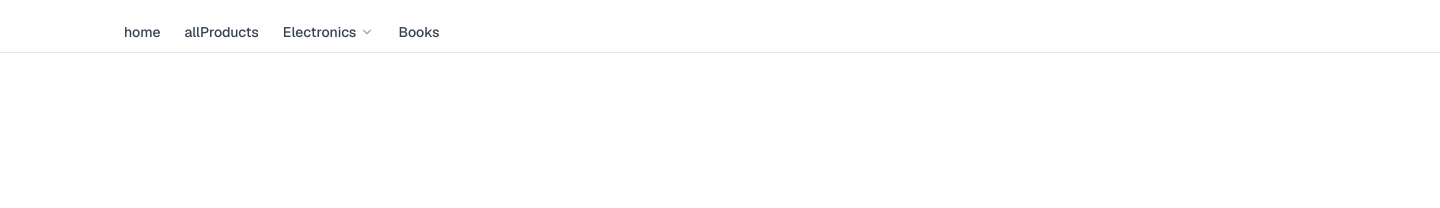
Scenario: CategoryNav › opens the sub-category menu panel when clicking a root category name
Expected: the link "Audio" is not shown
Click the button "Electronics". click: (329, 32)
box: [271, 12, 386, 52]
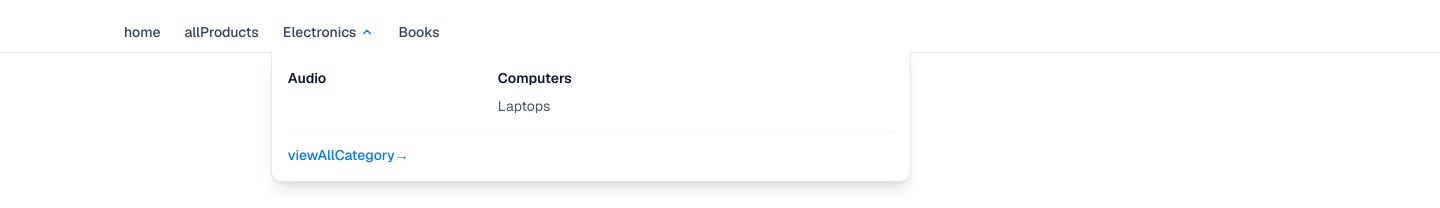
Result: the link "Audio" is shown at [288, 69, 326, 87]
Result: the link "Computers" is shown at [498, 69, 572, 87]
